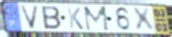6: (115, 7, 131, 32)
B: (41, 5, 63, 31)
K: (66, 6, 85, 31)
M: (83, 6, 112, 33)
V: (19, 4, 41, 30)
X: (130, 7, 156, 33)
